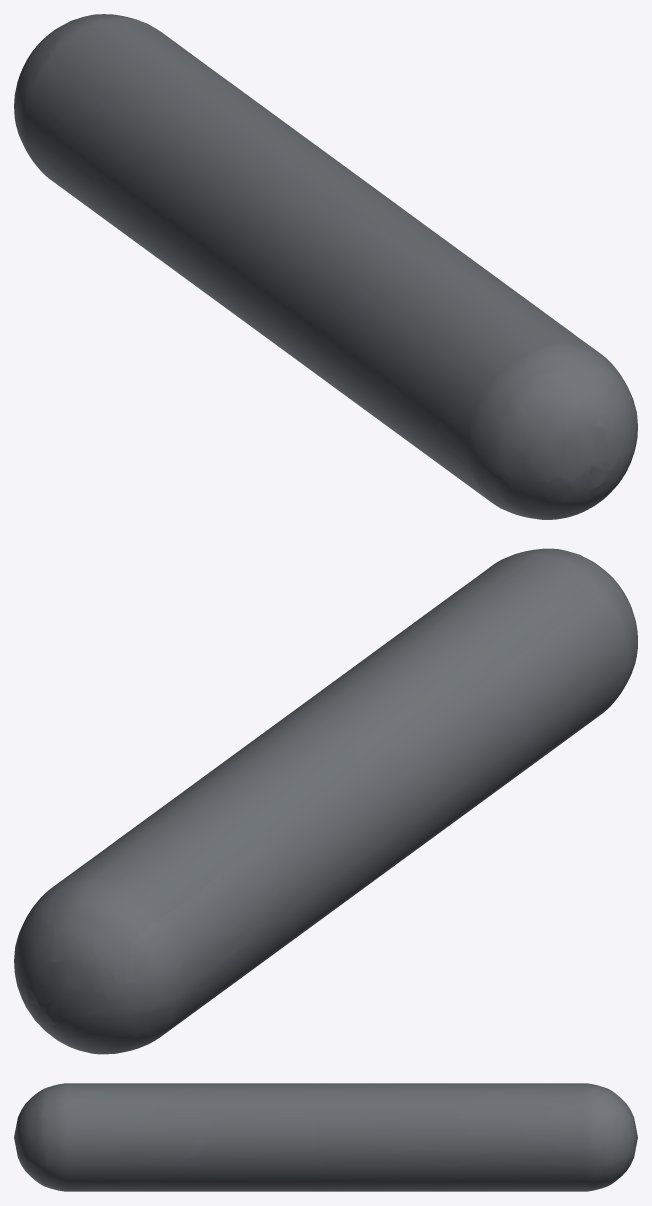
Rendered from analq131.glb.
3 renders of one model, top to bottom at view 1: azimuth 30°, elevation 25°; view 2: azimuth 150°, elevation 25°; view 3: azimuth 270°, elevation 25°, orthographic. The views are drawn at different scales.
Visible parts, largest first — view 1: airframe; view 2: airframe; view 3: airframe.
Part boxes in pixels (left/top/right/bottom): airframe: left=14, top=14, right=637, bottom=519; airframe: left=14, top=548, right=637, bottom=1054; airframe: left=14, top=1083, right=637, bottom=1191.
Bounding box in the file's own units: 0.4867 × 0.4869 × 2.8.
Materials: 1 (1 with a texture image).
